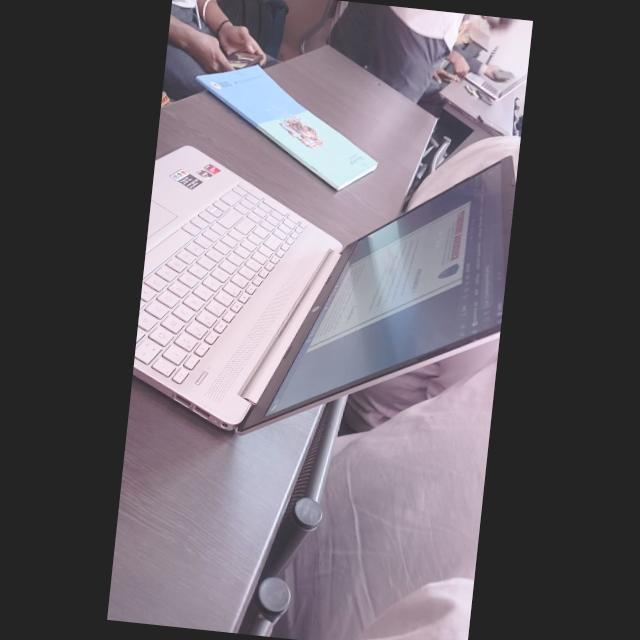laptop: (127, 113, 514, 459)
